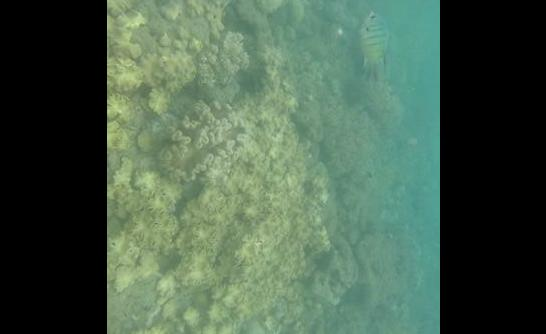bleached_corals: (107, 0, 313, 334)
